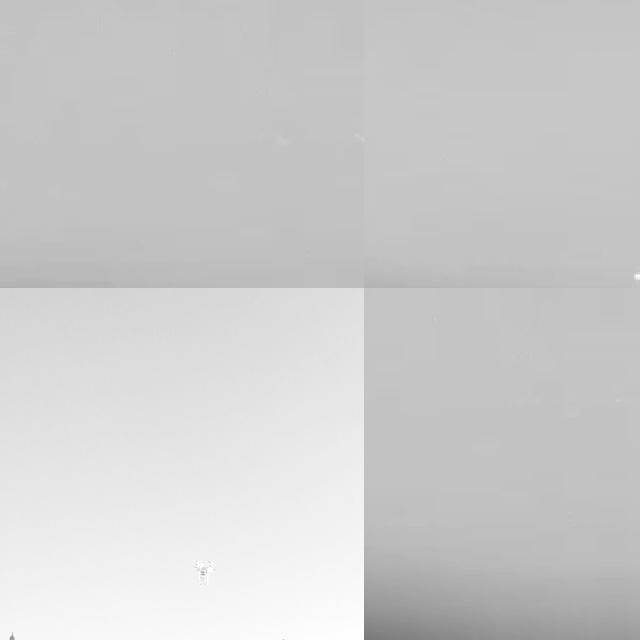1: (618, 258, 640, 288)
drone: (192, 554, 218, 586)
